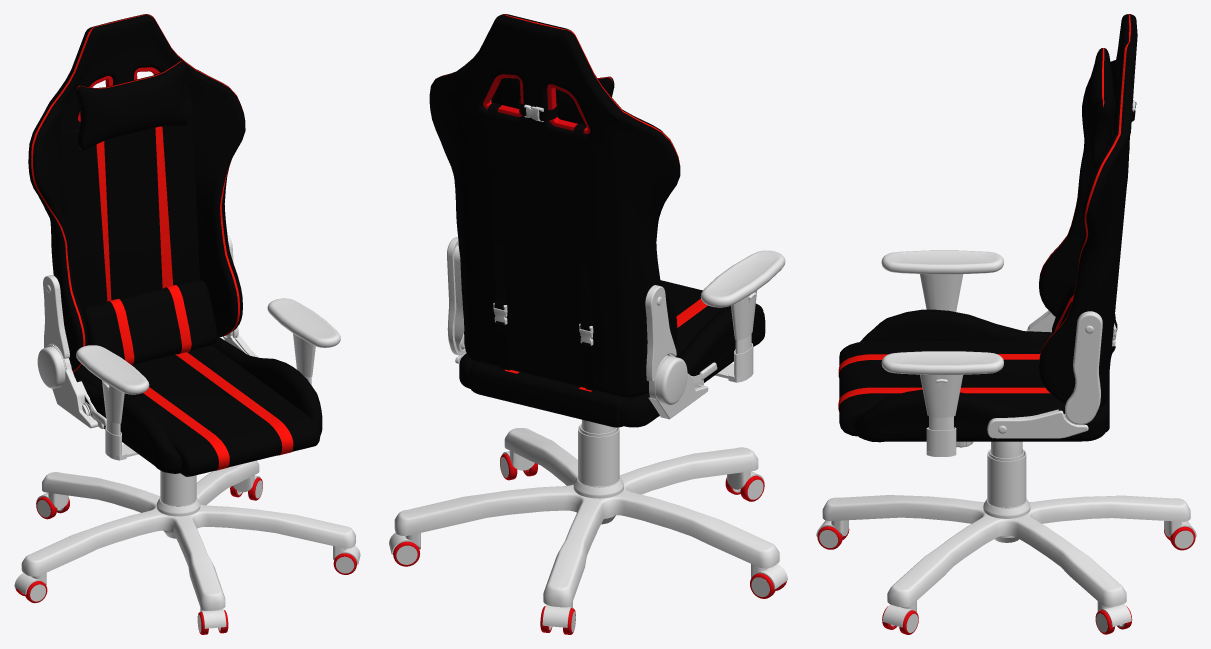
Rendered from GamingChair.fbx.
3 renders of one model, left to right at view 1: azimuth 30°, elevation 25°; view 2: azimuth 150°, elevation 25°; view 3: azimuth 270°, elevation 25°, orthographic. The views are drawn at different scales.
Visible parts, largest first — view 1: GamingChair; view 2: GamingChair; view 3: GamingChair.
Boxes of the visible parts, x1,y1,x2,y2 form: GamingChair: (14,14,360,634); GamingChair: (389,14,787,634); GamingChair: (816,14,1196,634).
Bounding box in the file's own units: 1.24 × 1.3 × 2.03.
